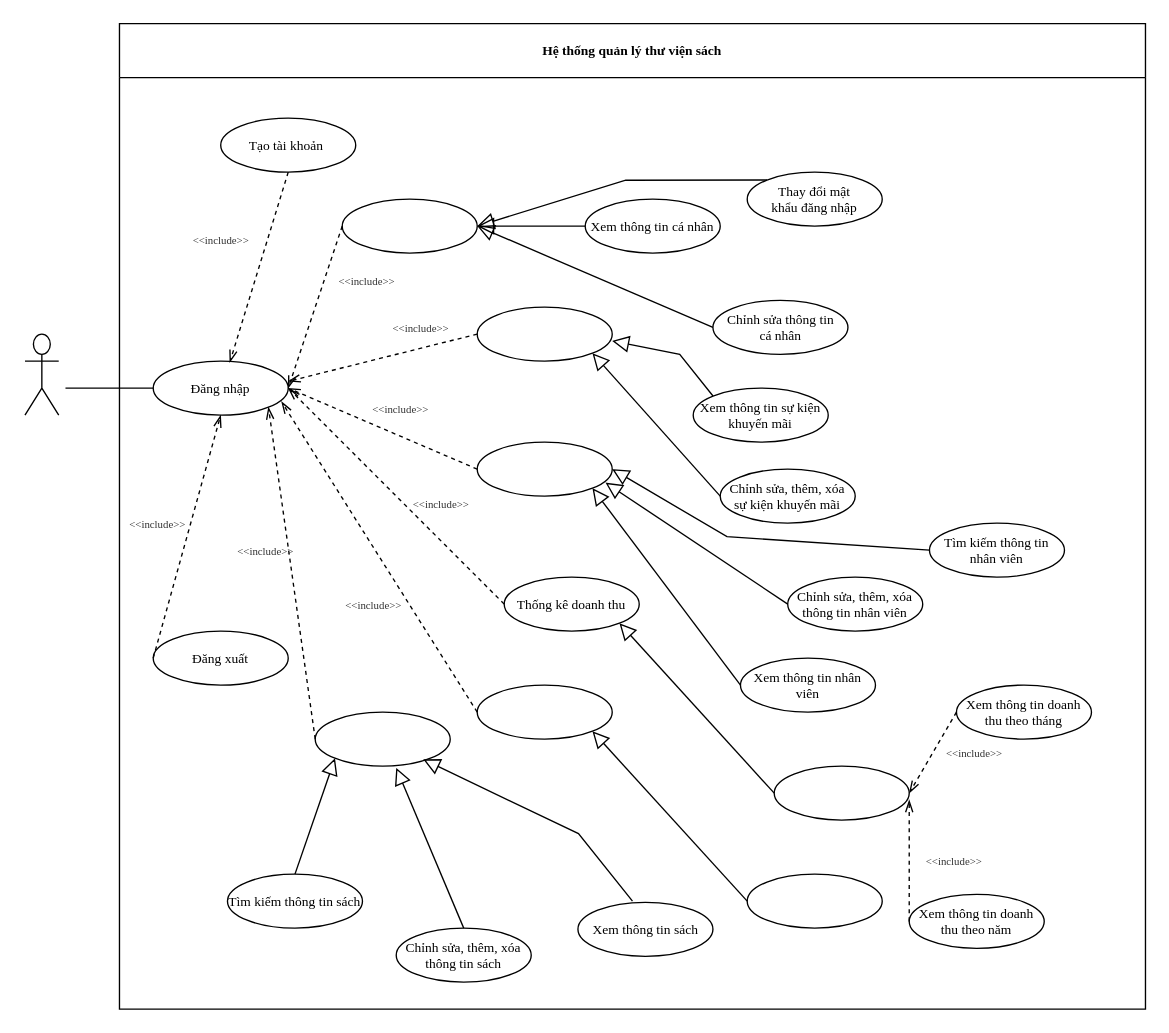
The diagram is 1169 pixels wide and 1033 high, and some of its shapes have lost their labels. Each missing label, with the box of its shape:
Admin: (24, 333, 59, 415)
Quản lý khuyến mãi: (476, 306, 612, 361)
Quản lý nhân viên: (476, 441, 612, 496)
Quản lý sách: (314, 711, 450, 766)
Quản lý thông tin cá nhân: (341, 198, 477, 253)
Thống kê chi phí: (476, 684, 612, 739)
Xem thông tin chi phí: (746, 873, 882, 928)
Xem thông tin doanh thu: (773, 765, 909, 820)
